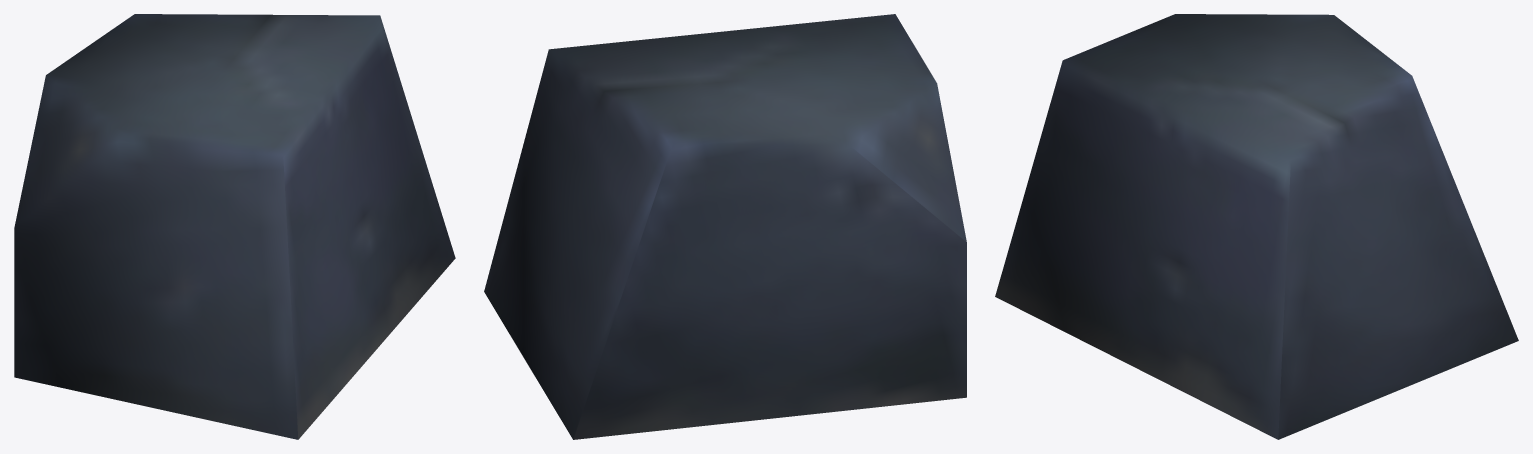
File: Area_03_15.fbx
3 views of the same model, side by side, from view 1: azimuth 30°, elevation 25°; view 2: azimuth 150°, elevation 25°; view 3: azimuth 270°, elevation 25° (orthographic). The views are drawn at different scales.
Visible parts, largest first — view 1: Area_03_15; view 2: Area_03_15; view 3: Area_03_15.
Part boxes in pixels (left/top/right/bottom): Area_03_15: left=14, top=14, right=455, bottom=439; Area_03_15: left=484, top=14, right=966, bottom=439; Area_03_15: left=995, top=14, right=1518, bottom=439.
Size of the model in its own units: 883 by 475 by 917.
